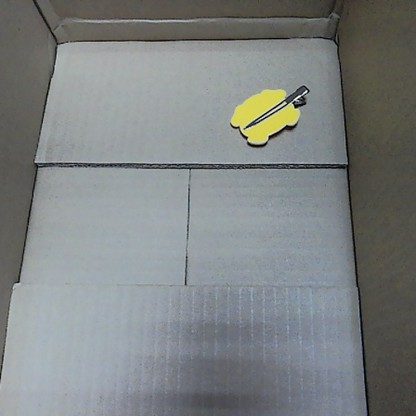dogclip: (227, 81, 311, 147)
